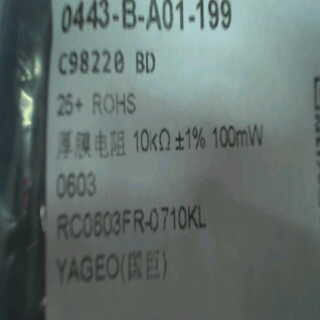10kR: (126, 121, 172, 154)
